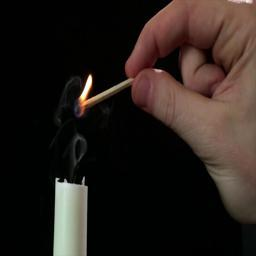fire: (81, 74, 93, 101)
